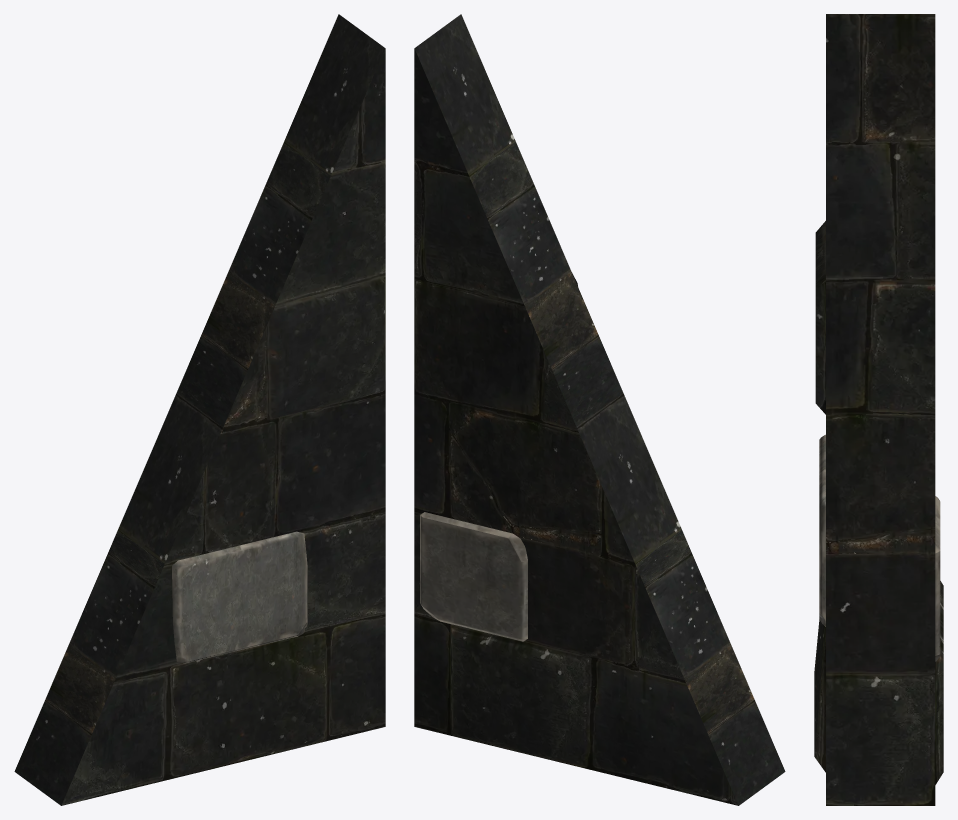
3 renders of one model, left to right at view 1: azimuth 30°, elevation 25°; view 2: azimuth 150°, elevation 25°; view 3: azimuth 270°, elevation 25°, orthographic. The views are drawn at different scales.
Visible parts, largest first — view 1: SM_DeathTemple_Wall_Corner_2x4_01_v1_LOD0; view 2: SM_DeathTemple_Wall_Corner_2x4_01_v1_LOD0; view 3: SM_DeathTemple_Wall_Corner_2x4_01_v1_LOD0.
Part boxes in pixels (x1,y1,x2,y2): SM_DeathTemple_Wall_Corner_2x4_01_v1_LOD0: (14, 14, 385, 805); SM_DeathTemple_Wall_Corner_2x4_01_v1_LOD0: (414, 14, 785, 805); SM_DeathTemple_Wall_Corner_2x4_01_v1_LOD0: (814, 14, 943, 805).
Bounding box in the file's own units: 2 × 4 × 0.5931.
Materials: 2 (2 with a texture image).
